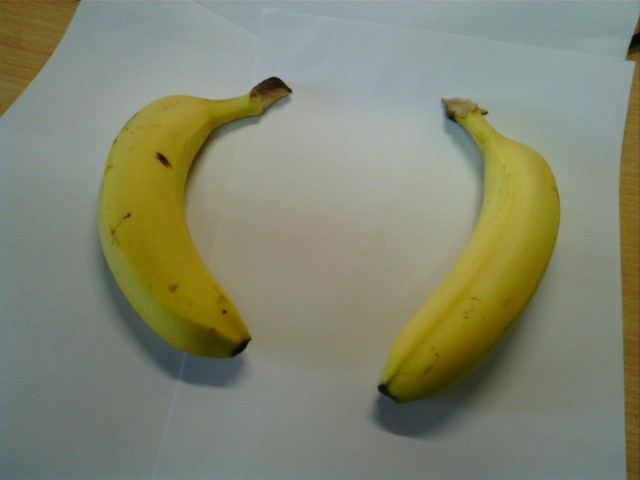fresh_banana: (379, 98, 562, 403)
normal_banana: (94, 80, 251, 357)
